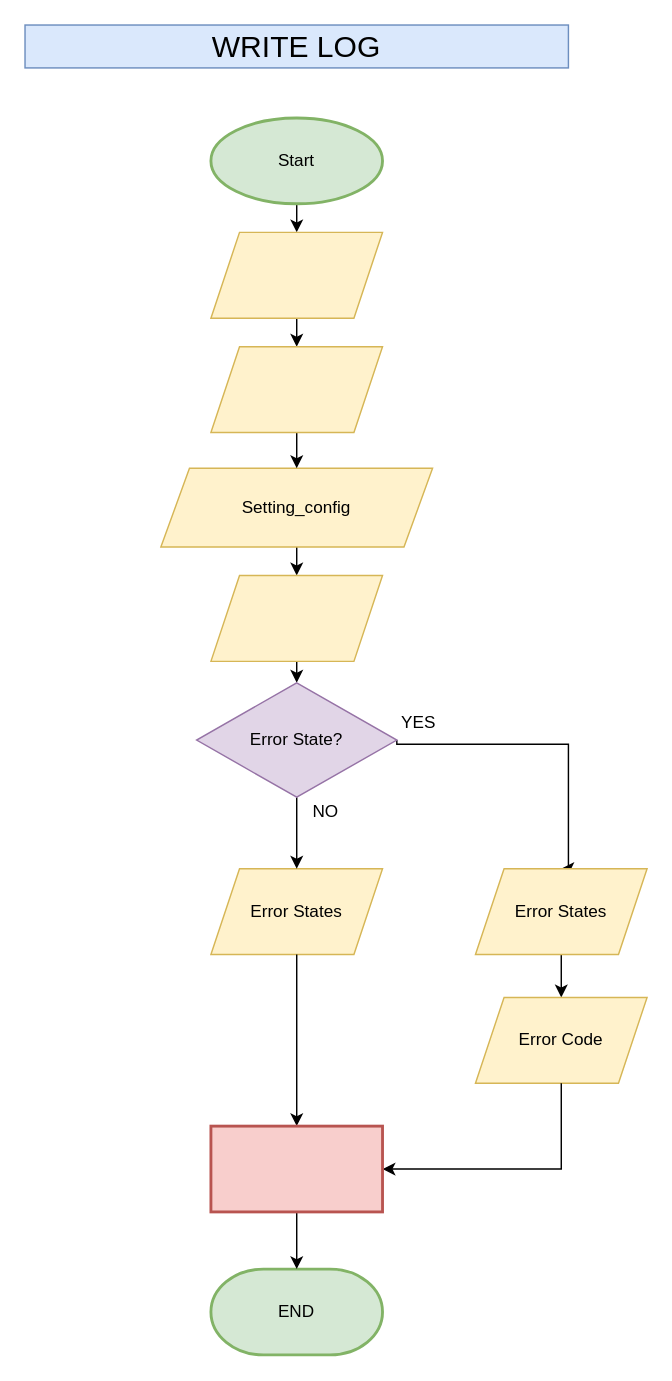
Some shapes in this 672 by 1381 pixel diagram are drawn without their labels. The centre of each missing label's shape, as x and y in pixels:
"Device ID" belongs at (296,389).
"Dispense Mode" belongs at (296,617).
"RTC" belongs at (296,274).
"Write to LOG.txt" belongs at (296,1168).
